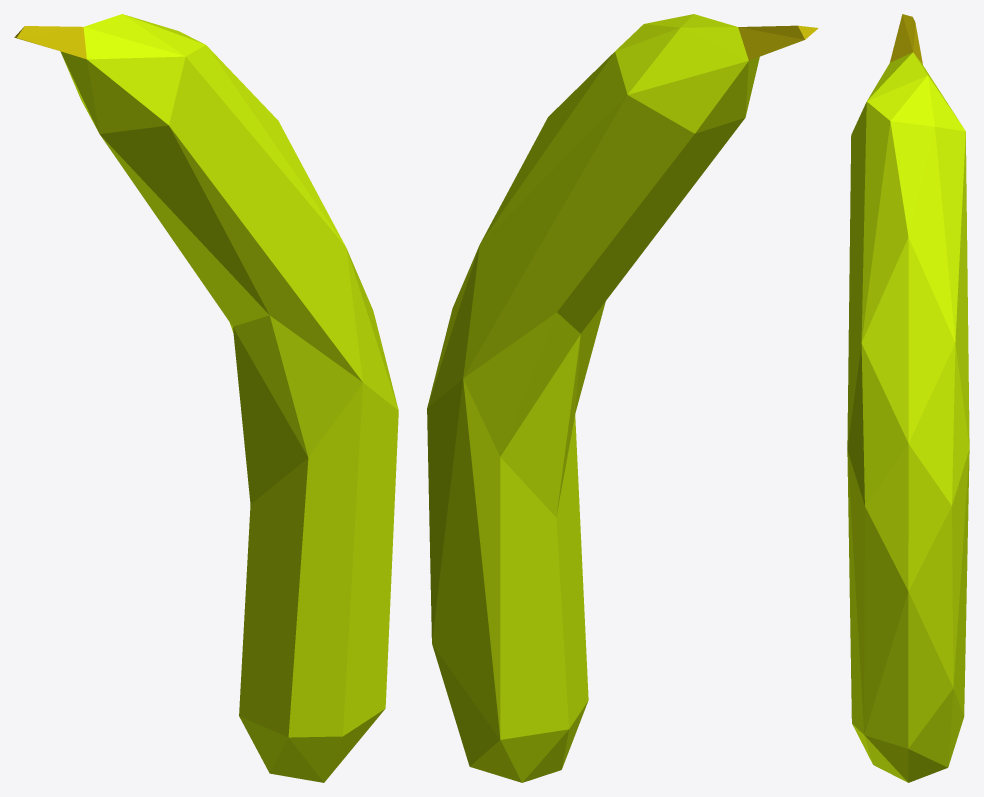
File: bananaFBX.fbx
The picture shows the model from 3 angles, left to right: view 1: azimuth 30°, elevation 25°; view 2: azimuth 150°, elevation 25°; view 3: azimuth 270°, elevation 25°; orthographic projection. The views are drawn at different scales.
Visible parts, largest first — view 1: Cylinder; view 2: Cylinder; view 3: Cylinder.
Part boxes in pixels (x1,y1,x2,y2): Cylinder: (14, 14, 398, 782); Cylinder: (427, 14, 818, 782); Cylinder: (847, 14, 969, 782).
Size of the model in its own units: 109 by 222 by 38.08.
